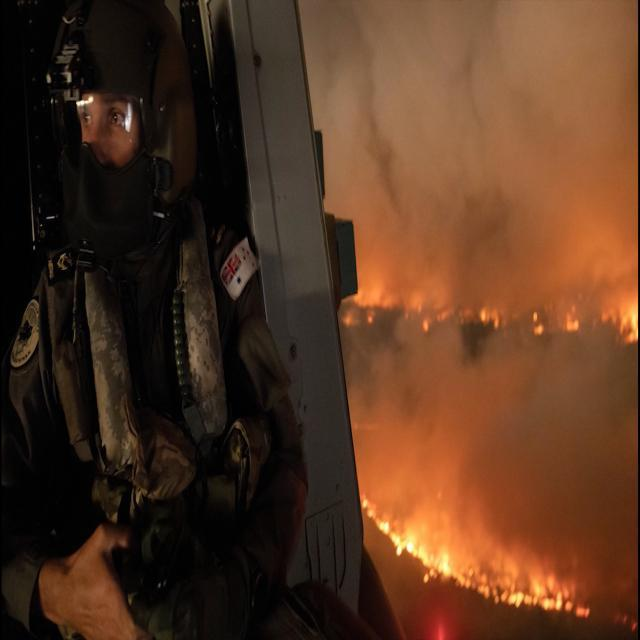Fire: (352, 488, 592, 619)
Smoke: (308, 0, 640, 591)
